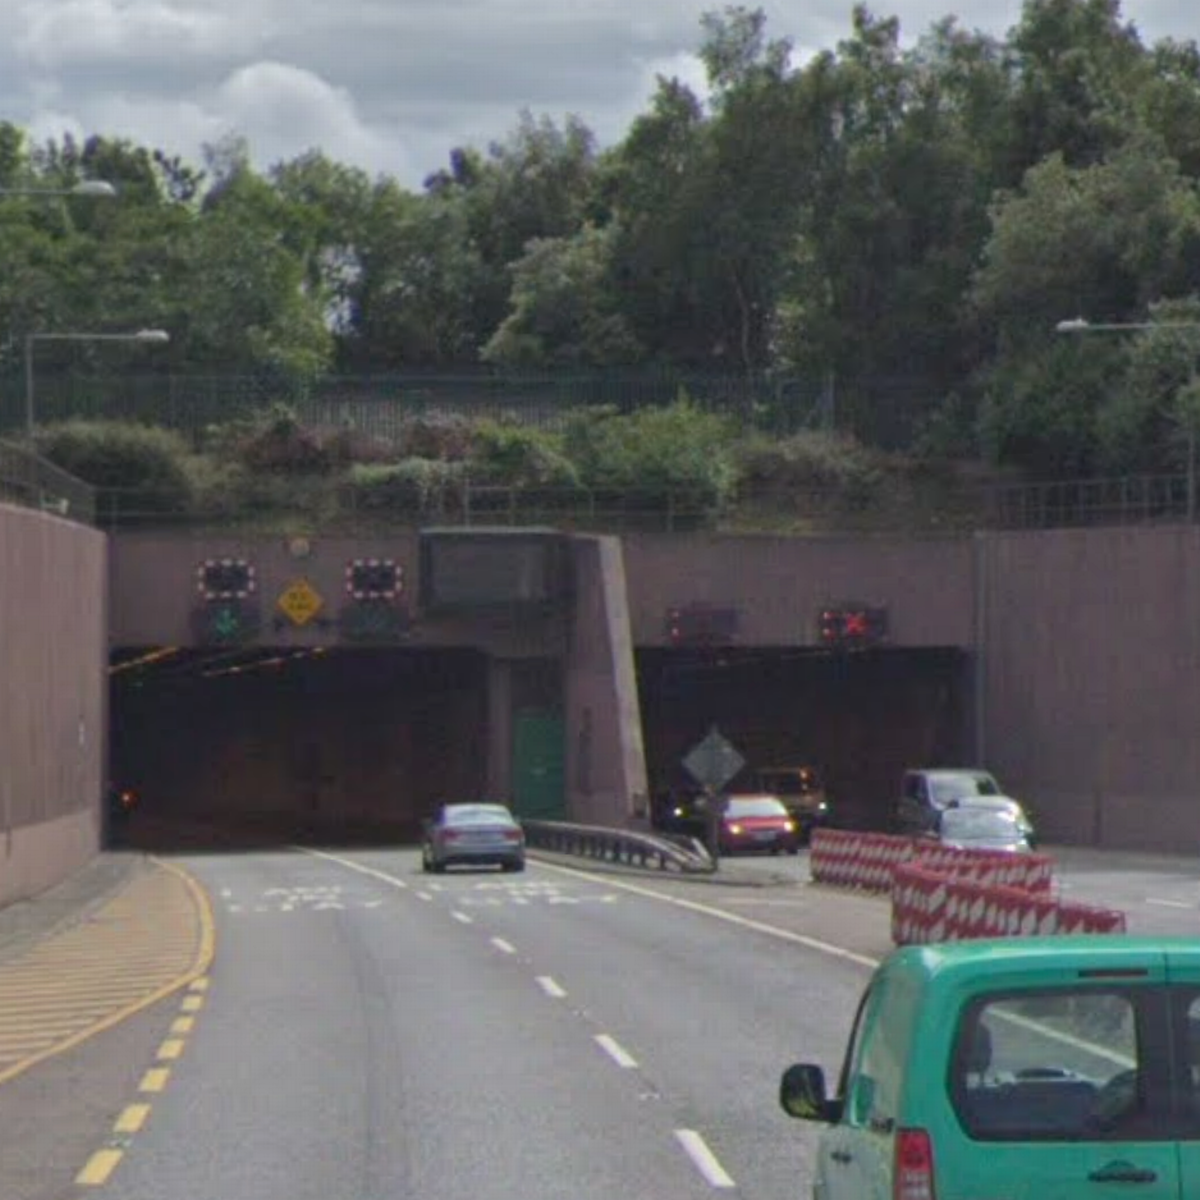bridge: (99, 529, 981, 848)
